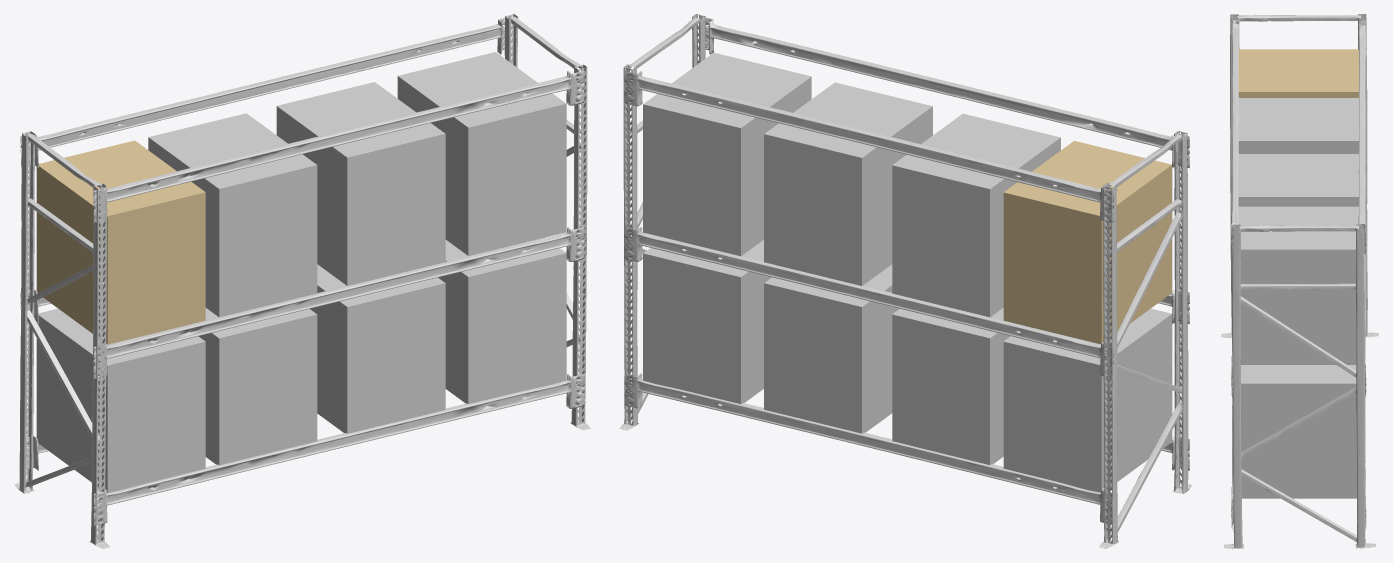
The model's file is Magazijn.glb.
3 renders of one model, left to right at view 1: azimuth 30°, elevation 25°; view 2: azimuth 150°, elevation 25°; view 3: azimuth 270°, elevation 25°, orthographic. The views are drawn at different scales.
Visible parts, largest first — view 1: stelling, A01-01-008, A01-01-006, A01-01-005, A01-01-01A, A01-01-007, A01-01-03, A01-01-04, A01-01-02; view 2: stelling, A01-01-008, A01-01-006, A01-01-005, A01-01-01A, A01-01-007, A01-01-03, A01-01-04, A01-01-02; view 3: A01-01-005, stelling, A01-01-04, A01-01-007, A01-01-006, A01-01-008.
Part boxes in pixels (x1,y1,x2,y2): stelling: (14, 14, 590, 548); A01-01-008: (36, 140, 205, 344); A01-01-006: (276, 82, 445, 285); A01-01-005: (397, 52, 566, 255); A01-01-01A: (36, 308, 205, 492); A01-01-007: (148, 113, 317, 317); A01-01-03: (310, 264, 445, 433); A01-01-04: (438, 237, 566, 403); A01-01-02: (198, 308, 317, 465); stelling: (619, 14, 1192, 548); A01-01-008: (1003, 140, 1172, 344); A01-01-006: (764, 82, 932, 285); A01-01-005: (643, 52, 811, 256); A01-01-01A: (1003, 308, 1172, 492); A01-01-007: (892, 113, 1060, 317); A01-01-03: (764, 264, 899, 433); A01-01-04: (643, 240, 771, 403); A01-01-02: (892, 308, 1010, 464); A01-01-005: (1238, 206, 1358, 364); stelling: (1221, 14, 1378, 548); A01-01-04: (1241, 365, 1356, 498); A01-01-007: (1238, 98, 1358, 153); A01-01-006: (1238, 154, 1358, 206); A01-01-008: (1238, 49, 1358, 97).
Bounding box in the file's own units: 4.03 × 2.78 × 1.24.
